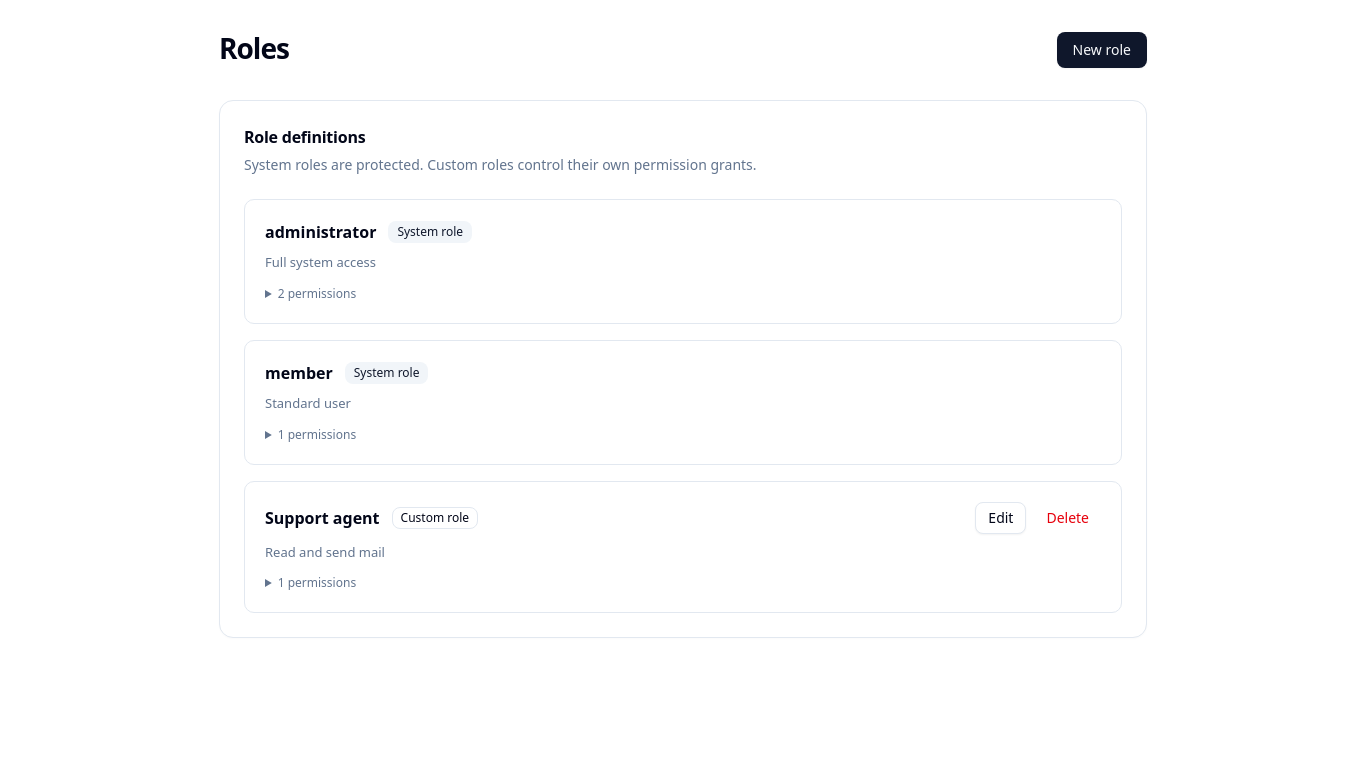
Scenario: RolesPage (CAP-067) › keeps the list compact and cancels an editor without changing the role
Expected: the field labelled "Edit Support agent role name" is not shown
Click the button with aria-label "Edit Support agent" at (1001, 518), box [975,502,1026,534]
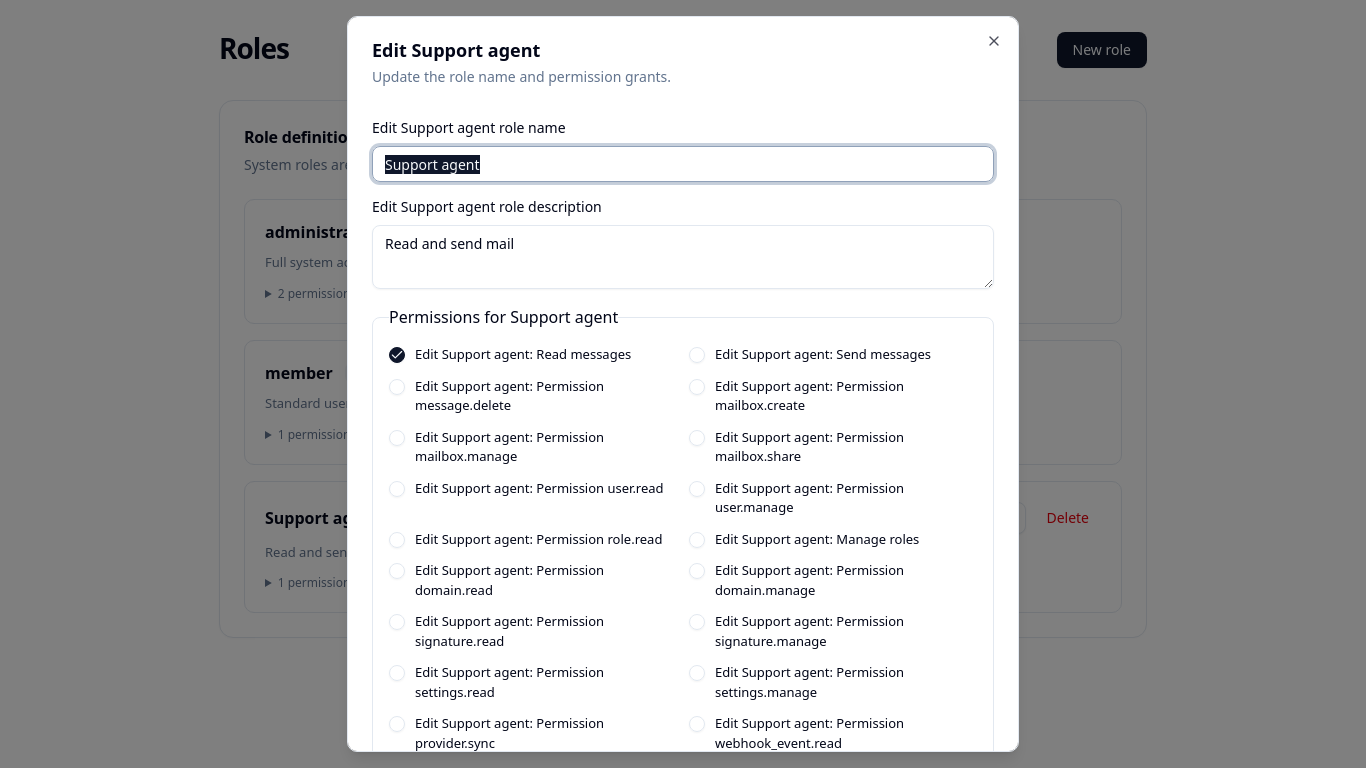
Replace the text in the field labelled "Edit Support agent role name" with "Unsaved" at (683, 164), box [372,146,994,182]
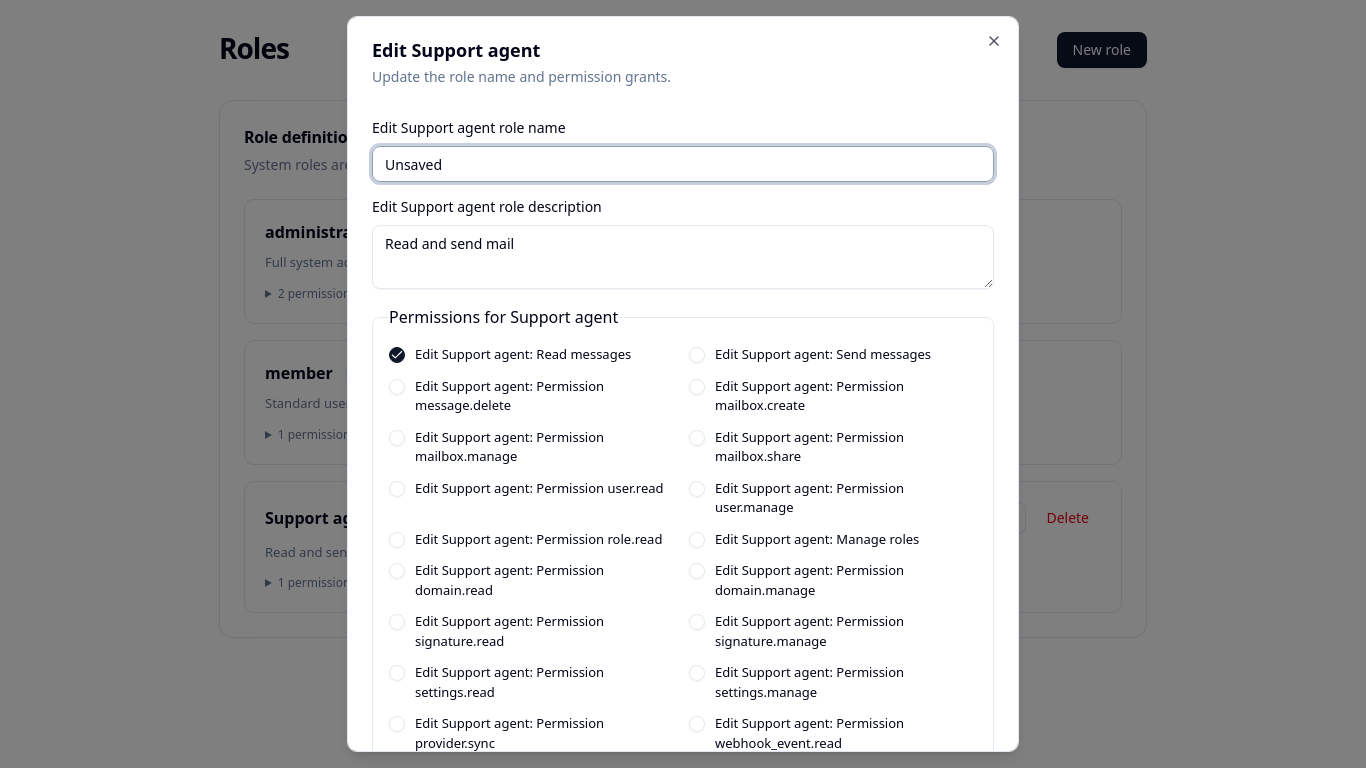
Press Escape
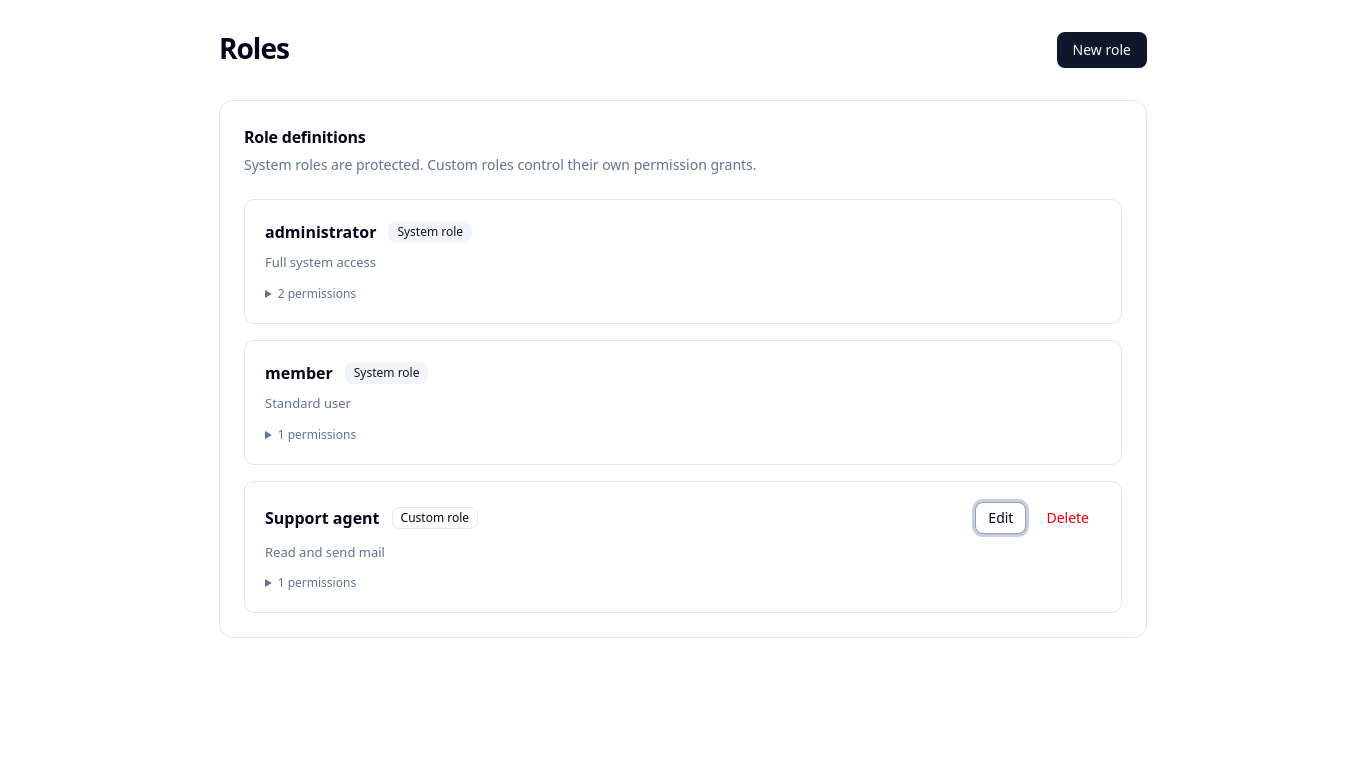
Expected: the dialog is gone
Click the button with aria-label "Edit Support agent" at (1001, 518), box [975,502,1026,534]
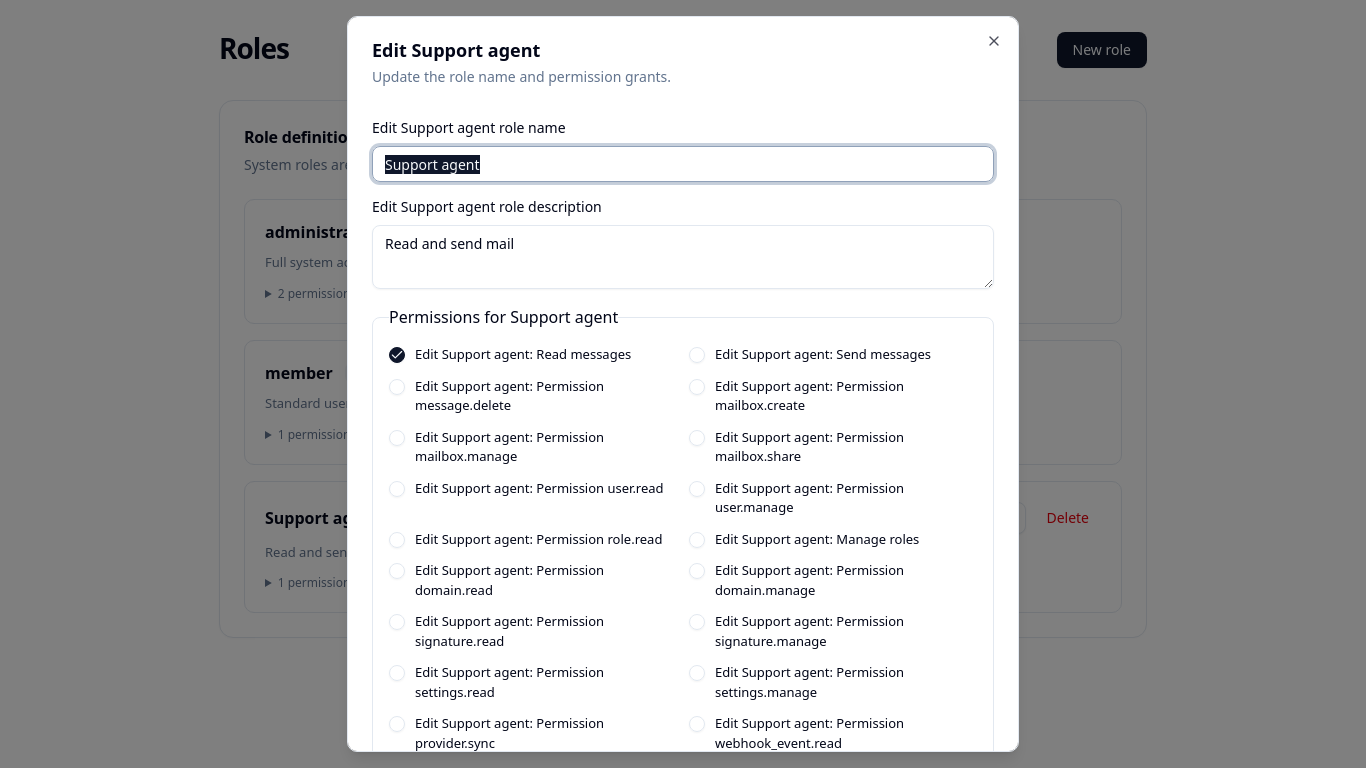
Expected: the field labelled "Edit Support agent role name" holds "Support agent", [372,146,994,182]
